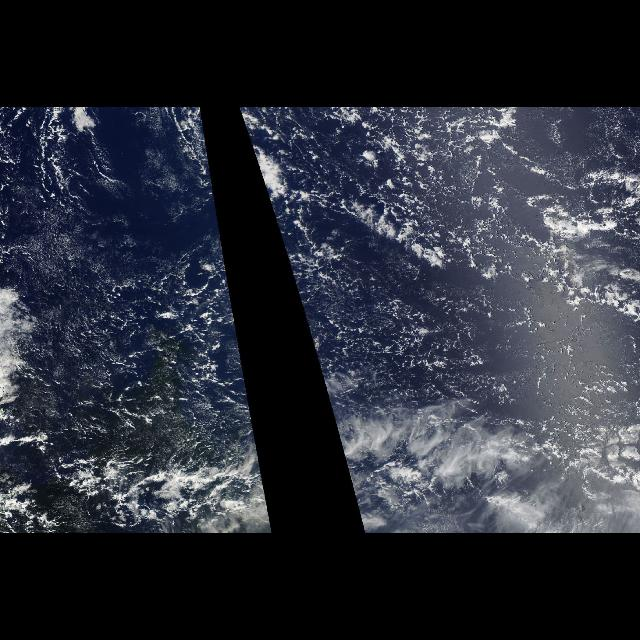Gravel: (271, 108, 623, 464), (35, 226, 261, 464)
